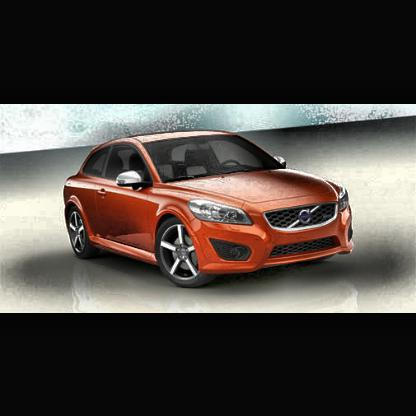Volvo C30 Hatchback 2012: (65, 129, 355, 289)
